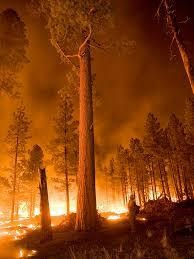fire: (102, 202, 128, 219)
